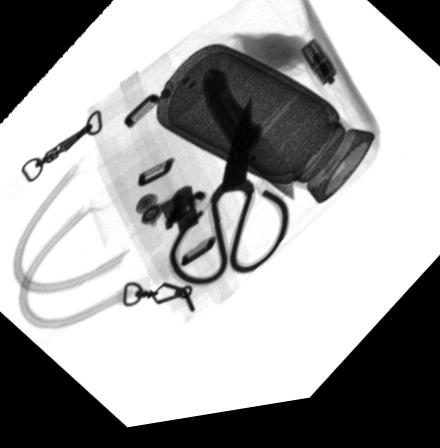Knife: (202, 73, 296, 211)
Scissors: (168, 101, 293, 292)
